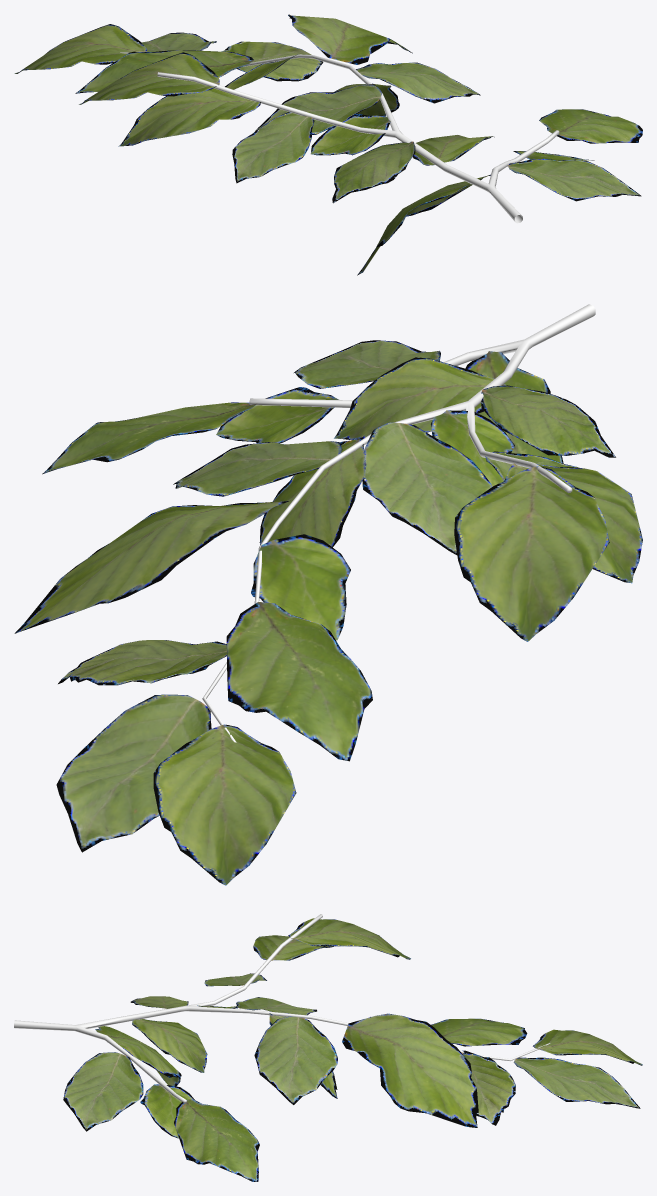
Rendered from twig.004.gltf.
3 views of the same model, one above another, from view 1: azimuth 30°, elevation 25°; view 2: azimuth 150°, elevation 25°; view 3: azimuth 270°, elevation 25° (orthographic). The views are drawn at different scales.
Visible parts, largest first — view 1: twig.004; view 2: twig.004; view 3: twig.004.
Part boxes in pixels (x1,y1,x2,y2): twig.004: (14, 14, 642, 275); twig.004: (14, 304, 642, 885); twig.004: (14, 914, 642, 1181).
Bounding box in the file's own units: 5.29 × 1.76 × 7.58.
2 materials, 1 textured.
